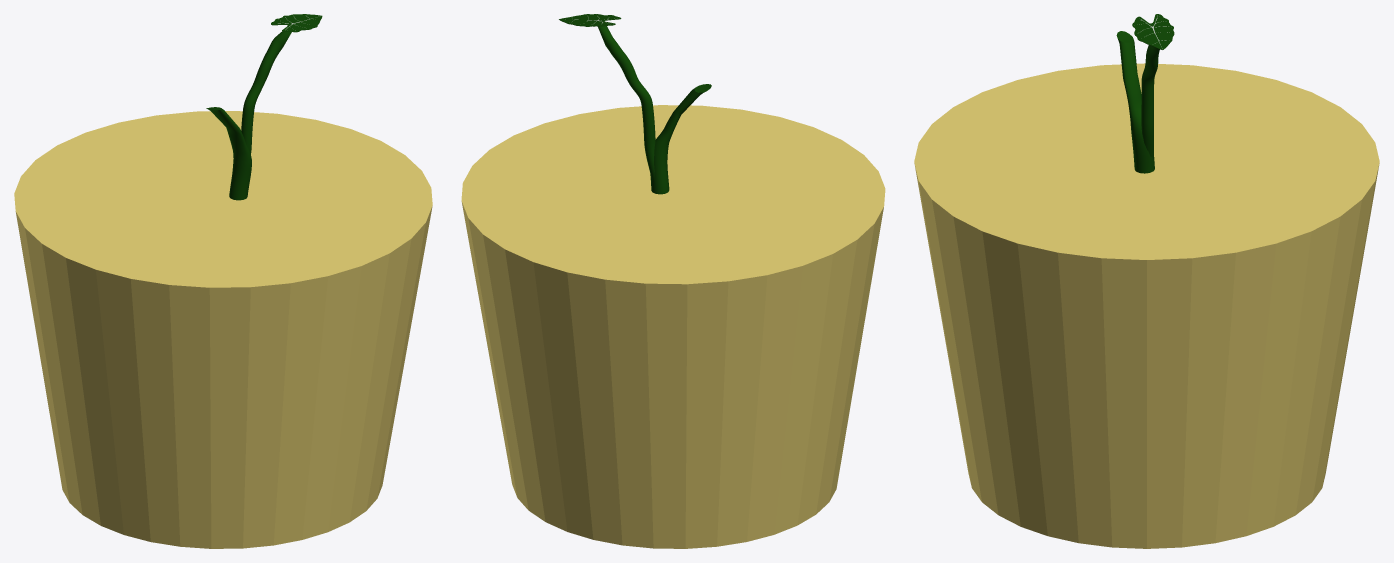
Rendered from Alokasia3.glb.
3 views of the same model, side by side, from view 1: azimuth 30°, elevation 25°; view 2: azimuth 150°, elevation 25°; view 3: azimuth 270°, elevation 25° (orthographic). The views are drawn at different scales.
Parts seen in each view (by area): view 1: 흙.001, 잎.001; view 2: 흙.001, 잎.001; view 3: 흙.001, 잎.001.
Boxes of the visible parts, x1,y1,x2,y2 form: 흙.001: [14, 111, 432, 548]; 잎.001: [206, 14, 322, 200]; 흙.001: [461, 105, 885, 548]; 잎.001: [559, 14, 711, 194]; 흙.001: [914, 63, 1379, 548]; 잎.001: [1116, 14, 1174, 173].
Size of the model in its own units: 0.3201 by 0.3707 by 0.3201.
